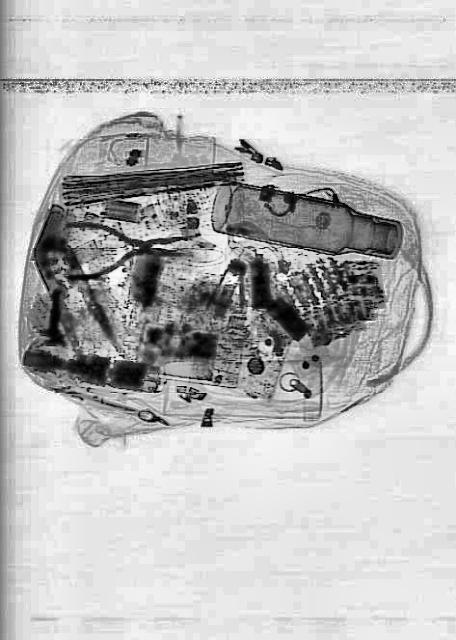Pliers: (26, 222, 126, 388), (63, 216, 189, 278)
